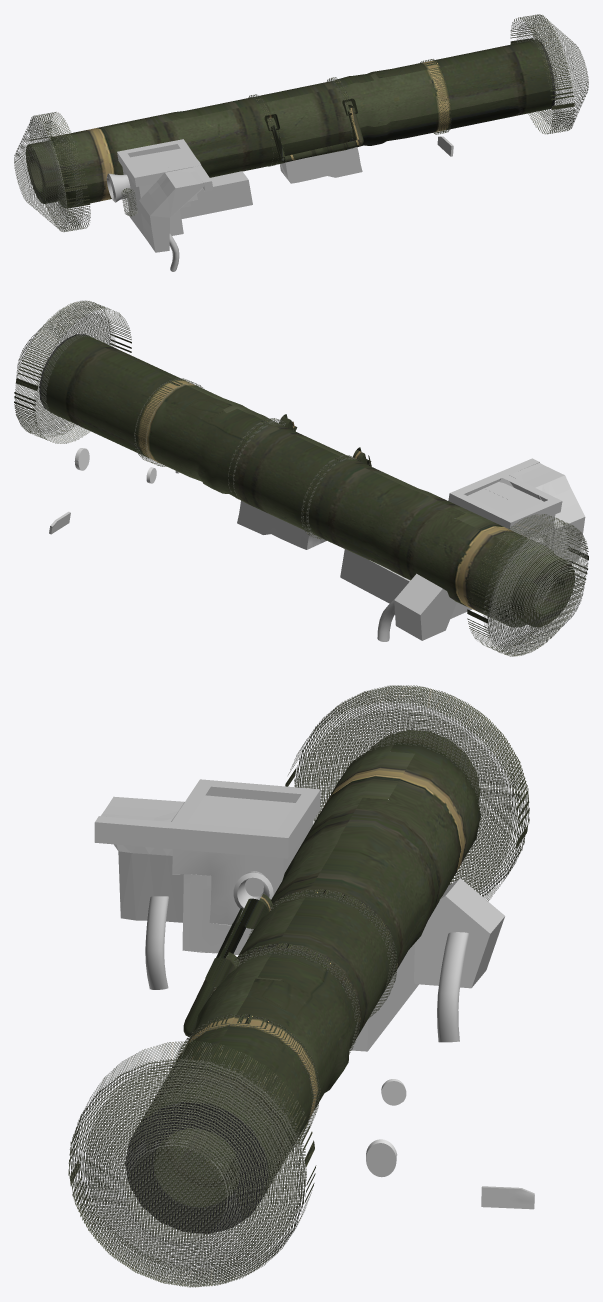
The model's file is Jav3.FBX.
The picture shows the model from 3 angles, top to bottom: view 1: azimuth 30°, elevation 25°; view 2: azimuth 150°, elevation 25°; view 3: azimuth 270°, elevation 25°; orthographic projection. The views are drawn at different scales.
Visible parts, largest first — view 1: Tube008, Object001, Object002; view 2: Tube008, Object001; view 3: Tube008, Object001, Box006, Circle009.
Part boxes in pixels (x1=…): Tube008: x1=25, y1=39, x2=555, y2=271; Object001: x1=14, y1=14, x2=588, y2=231; Object002: x1=121, y1=188, x2=137, y2=216; Tube008: x1=39, y1=334, x2=585, y2=641; Object001: x1=14, y1=300, x2=588, y2=656; Tube008: x1=94, y1=730, x2=504, y2=1233; Object001: x1=68, y1=685, x2=529, y2=1287; Box006: x1=481, y1=1186, x2=534, y2=1209; Circle009: x1=366, y1=1139, x2=397, y2=1177.
Size of the model in its own units: 361 by 103 by 144.
